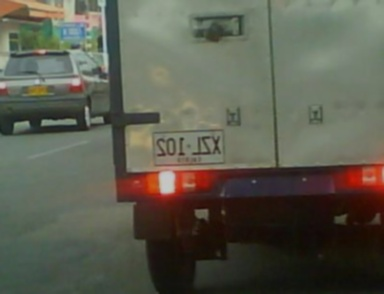placas: (151, 127, 227, 168)
